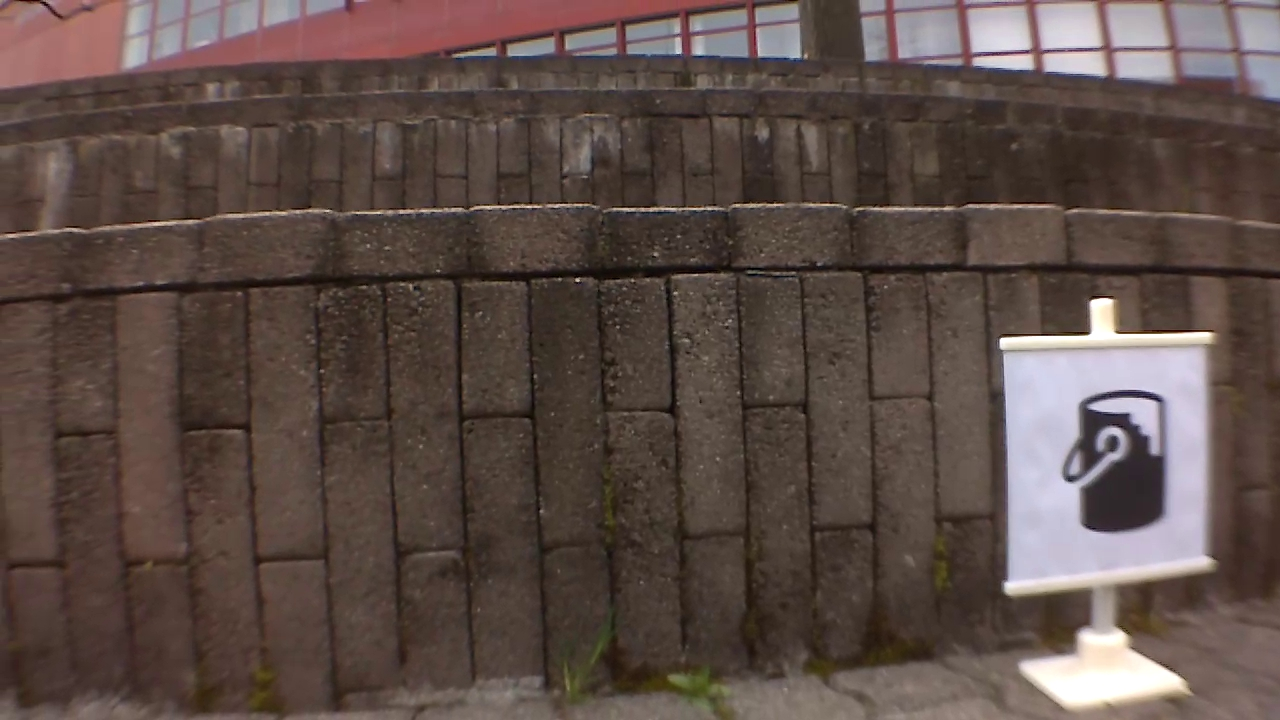bucket: (1070, 375, 1171, 543)
